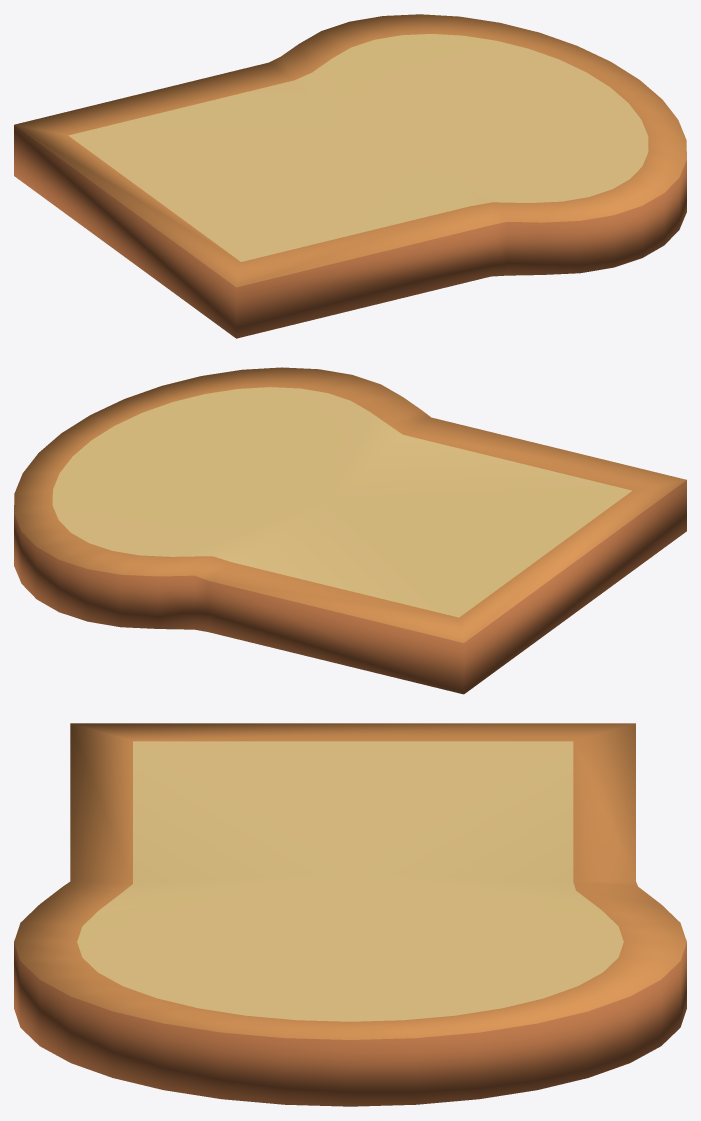
The model's file is BreadFresh.fbx.
3 views of the same model, one above another, from view 1: azimuth 30°, elevation 25°; view 2: azimuth 150°, elevation 25°; view 3: azimuth 270°, elevation 25° (orthographic). The views are drawn at different scales.
Visible parts, largest first — view 1: PAO; view 2: PAO; view 3: PAO.
Part boxes in pixels (box(x1,y1,x2,y2)): PAO: box(14, 14, 686, 338); PAO: box(14, 367, 686, 694); PAO: box(14, 723, 686, 1106).
Size of the model in its own units: 663 by 66.39 by 591.
Materials: 1 (1 with a texture image).
